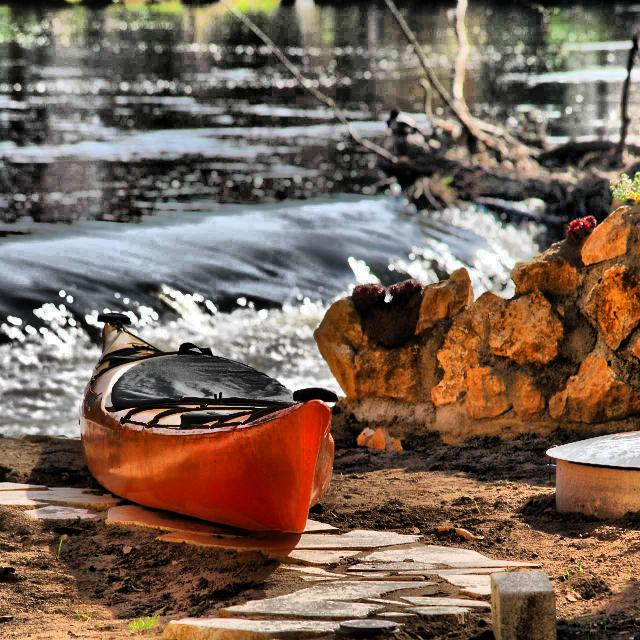kayak: (77, 311, 337, 535)
